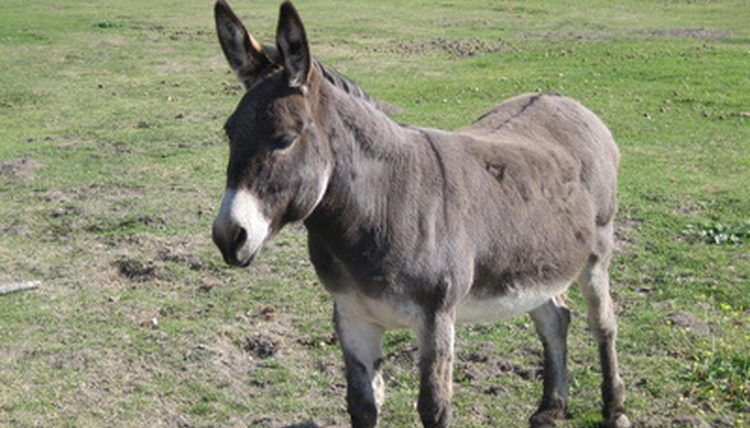donkey: (213, 1, 630, 428)
